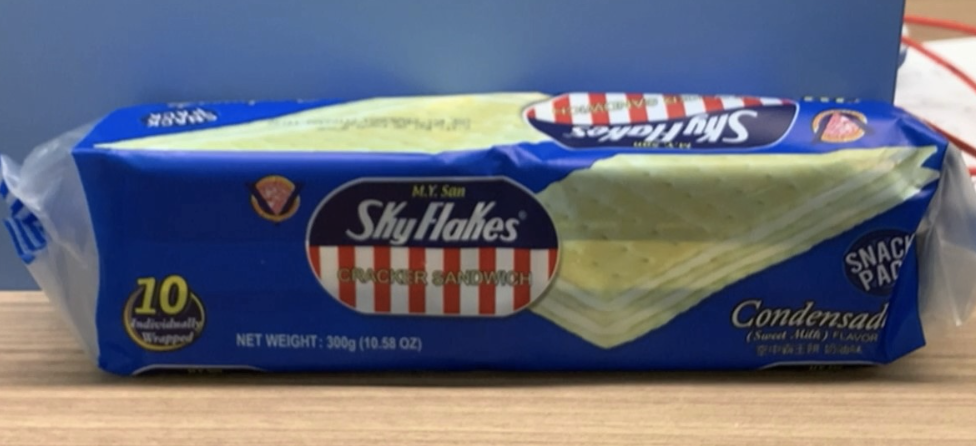crackers_150g: (119, 107, 917, 353)
